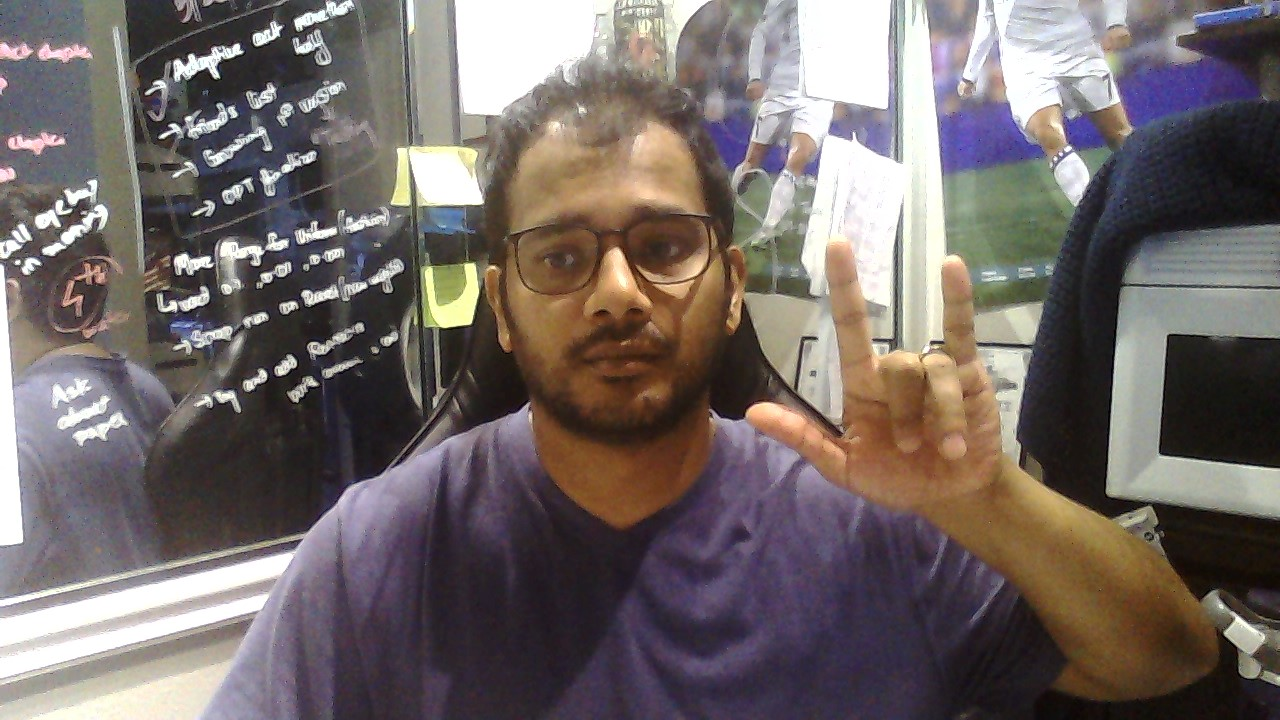ILoveYou: (744, 236, 1003, 510)
